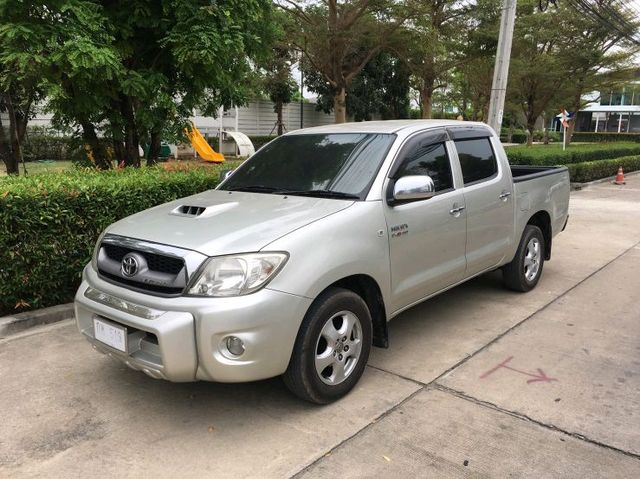pickup: (75, 116, 572, 408)
